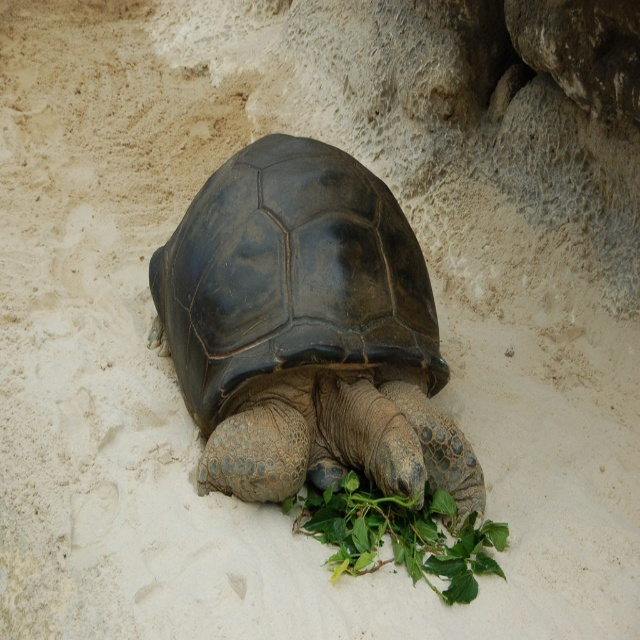Tortoise: (147, 133, 486, 536)
